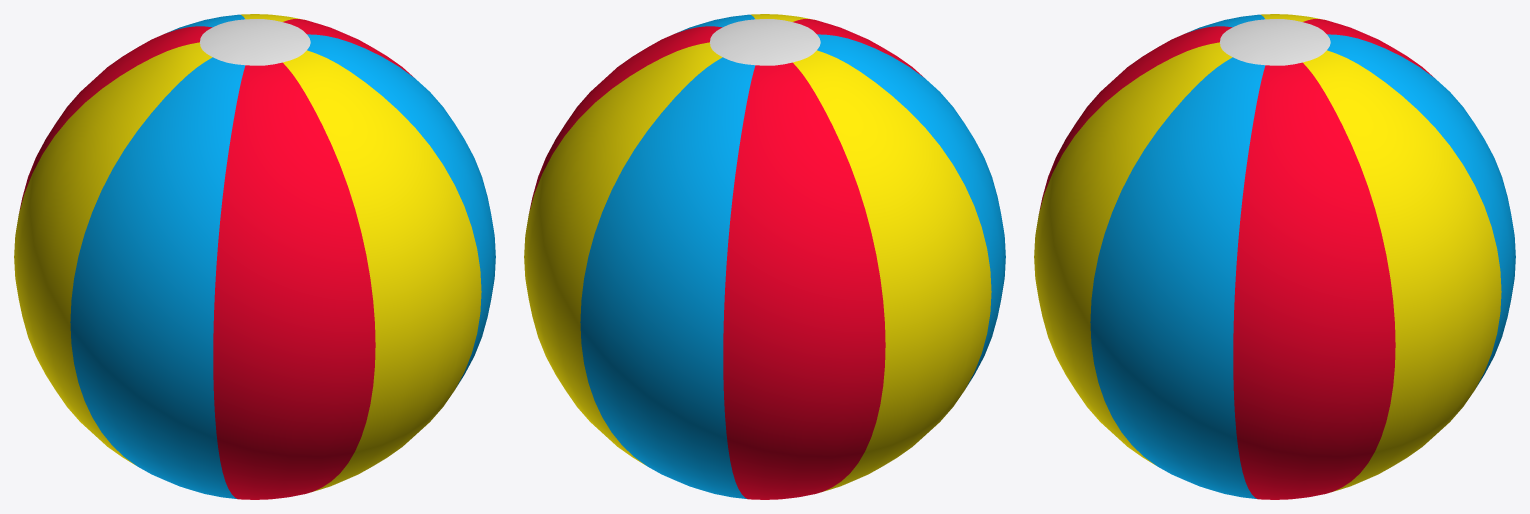
The model's file is ball.glb.
3 renders of one model, left to right at view 1: azimuth 30°, elevation 25°; view 2: azimuth 150°, elevation 25°; view 3: azimuth 270°, elevation 25°, orthographic.
Parts seen in each view (by area): view 1: ball; view 2: ball; view 3: ball.
Boxes of the visible parts, box(x1,y1,x2,y2) form: ball: box(14, 14, 495, 499); ball: box(524, 14, 1005, 499); ball: box(1034, 14, 1515, 499).
Bounding box in the file's own units: 1.9 × 1.91 × 1.9.
